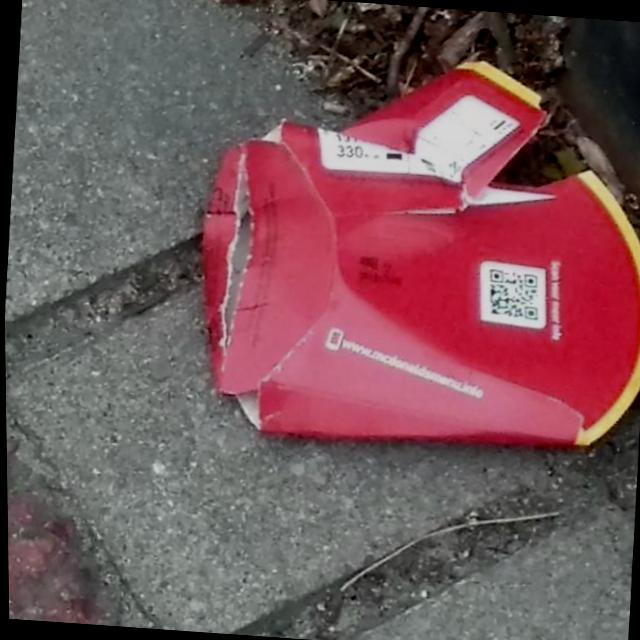Paper: (180, 37, 640, 467)
